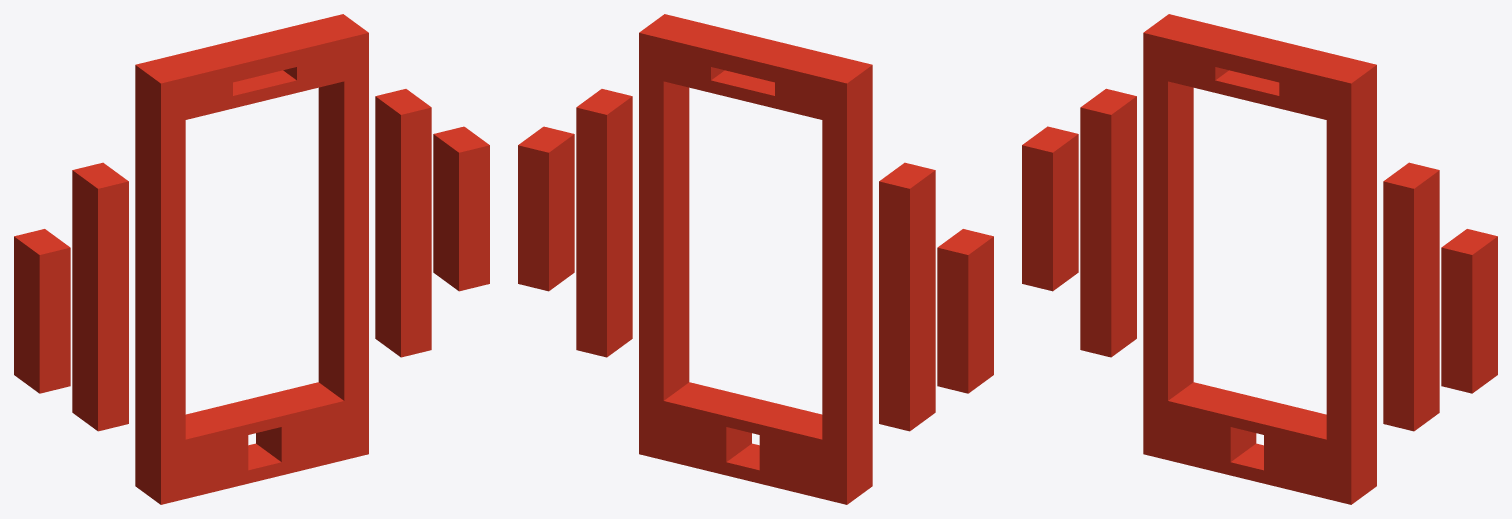
Rendered from Icon_Smartphone_02.fbx.
The picture shows the model from 3 angles, left to right: view 1: azimuth 30°, elevation 25°; view 2: azimuth 150°, elevation 25°; view 3: azimuth 330°, elevation 25°; orthographic projection.
Visible parts, largest first — view 1: Icon_Smartphone_02; view 2: Icon_Smartphone_02; view 3: Icon_Smartphone_02.
Boxes of the visible parts, box(x1,y1,x2,y2) form: Icon_Smartphone_02: box(14, 14, 489, 504); Icon_Smartphone_02: box(518, 14, 993, 504); Icon_Smartphone_02: box(1022, 14, 1497, 504).
Size of the model in its own units: 80.44 by 71.93 by 7.94.
